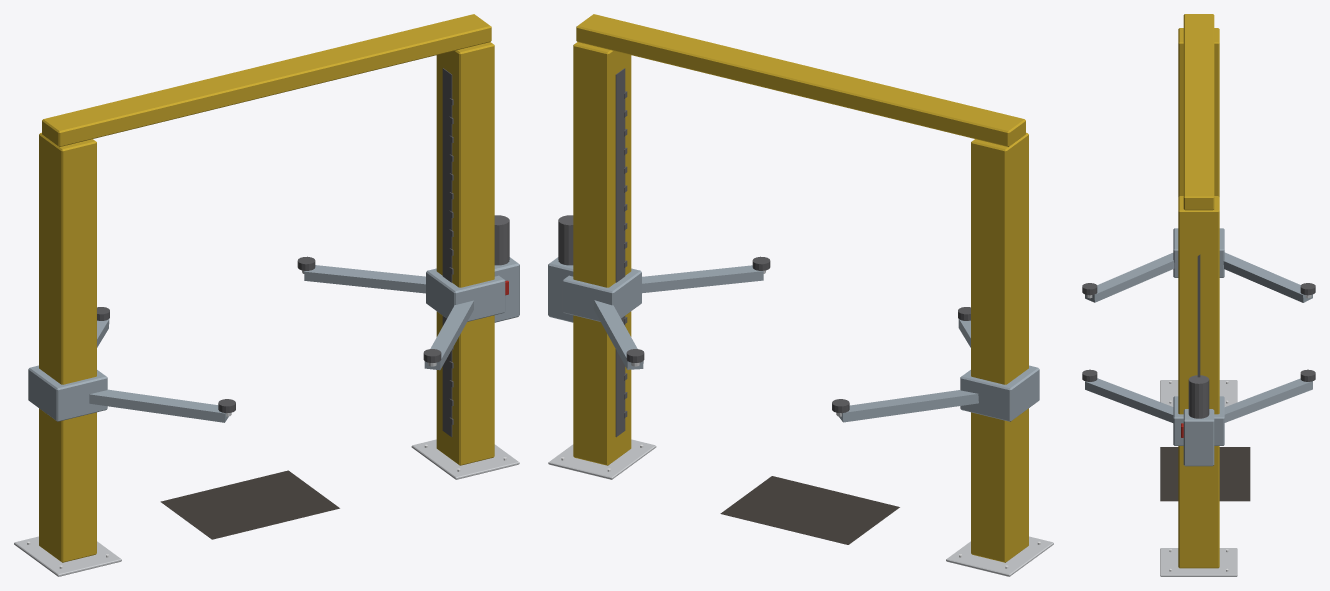
Rendered from elevador_automotivo.glb.
3 views of the same model, side by side, from view 1: azimuth 30°, elevation 25°; view 2: azimuth 150°, elevation 25°; view 3: azimuth 270°, elevation 25° (orthographic). The views are drawn at different scales.
Visible parts, largest first — view 1: elevador_automotivo_amarelo_maquina, elevador_automotivo_aco_pintado, elevador_automotivo_graxa, elevador_automotivo_esmalte_escuro, elevador_automotivo_aco, elevador_automotivo_borracha; view 2: elevador_automotivo_amarelo_maquina, elevador_automotivo_aco_pintado, elevador_automotivo_graxa, elevador_automotivo_esmalte_escuro, elevador_automotivo_aco, elevador_automotivo_borracha; view 3: elevador_automotivo_amarelo_maquina, elevador_automotivo_aco_pintado, elevador_automotivo_graxa, elevador_automotivo_aco, elevador_automotivo_borracha, elevador_automotivo_esmalte_escuro.
Boxes of the visible parts, box(x1,y1,x2,y2) form: elevador_automotivo_amarelo_maquina: box(39, 14, 494, 562); elevador_automotivo_aco_pintado: box(28, 257, 519, 422); elevador_automotivo_graxa: box(160, 470, 339, 539); elevador_automotivo_esmalte_escuro: box(442, 68, 509, 437); elevador_automotivo_aco: box(14, 270, 519, 576); elevador_automotivo_borracha: box(97, 256, 441, 413); elevador_automotivo_amarelo_maquina: box(573, 14, 1028, 562); elevador_automotivo_aco_pintado: box(548, 257, 1039, 422); elevador_automotivo_graxa: box(720, 476, 899, 544); elevador_automotivo_esmalte_escuro: box(558, 68, 627, 437); elevador_automotivo_aco: box(548, 270, 1053, 576); elevador_automotivo_borracha: box(626, 256, 970, 413); elevador_automotivo_amarelo_maquina: box(1178, 14, 1219, 568); elevador_automotivo_aco_pintado: box(1085, 228, 1312, 466); elevador_automotivo_graxa: box(1160, 447, 1250, 501); elevador_automotivo_aco: box(1086, 295, 1311, 576); elevador_automotivo_borracha: box(1082, 254, 1315, 381); elevador_automotivo_esmalte_escuro: box(1188, 375, 1209, 418).
Bounding box in the file's own units: 3.71 × 3.22 × 1.82.
